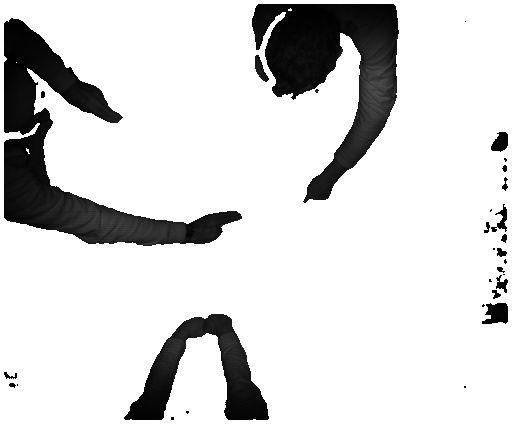fist: (172, 312, 208, 344), (206, 312, 240, 341)
hand: (69, 85, 127, 127), (188, 208, 247, 247), (296, 170, 337, 207)
